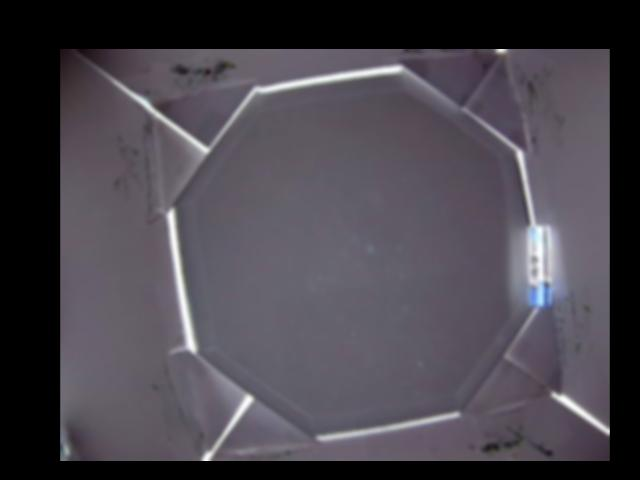Battery: (524, 222, 550, 308)
